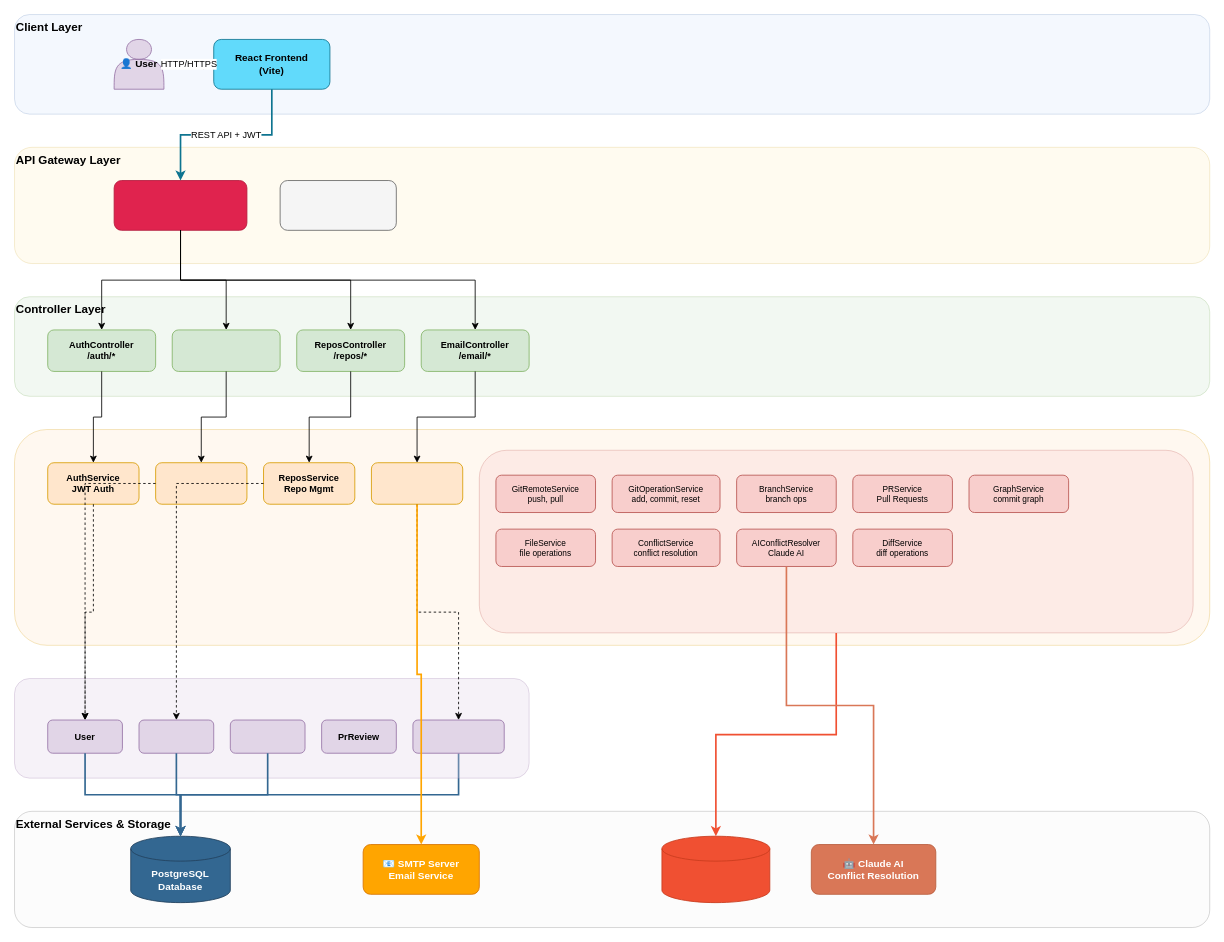
Some shapes in this 1224 by 942 pixel diagram are drawn without their labels. The box of each missing label's shape, as (x1, y1, x2, y2) in pixels:
Data Access Layer (TypeORM): (14, 678, 529, 778)
EmailService SMTP: (371, 462, 463, 504)
EmailVerification: (412, 719, 504, 753)
Git File System Local Storage: (661, 835, 770, 903)
Git Services: (478, 449, 1193, 633)
NestJS Application (main.ts): (113, 180, 247, 230)
PullRequest: (229, 719, 305, 753)
Repo: (138, 719, 214, 753)
Service Layer: (14, 429, 1210, 645)
Swagger/OpenAPI API Documentation: (279, 180, 396, 230)
UsersController /users/*: (171, 329, 280, 371)
UsersService User Mgmt: (155, 462, 247, 504)
